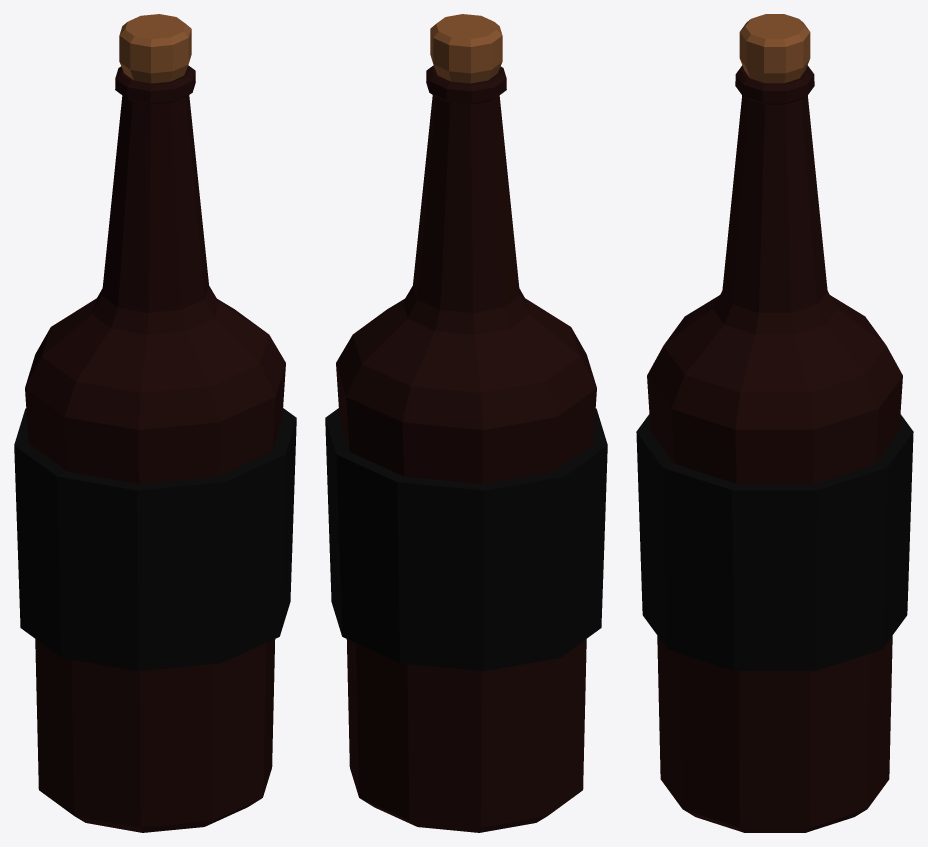
File: ww_bottle_c.glb
3 views of the same model, side by side, from view 1: azimuth 30°, elevation 25°; view 2: azimuth 150°, elevation 25°; view 3: azimuth 270°, elevation 25° (orthographic).
Visible parts, largest first — view 1: Bottle_C; view 2: Bottle_C; view 3: Bottle_C.
Boxes of the visible parts, box(x1,y1,x2,y2) form: Bottle_C: box(14, 14, 296, 832); Bottle_C: box(325, 14, 607, 832); Bottle_C: box(636, 14, 913, 832).
Size of the model in its own units: 0.0974 by 0.2966 by 0.0974.
